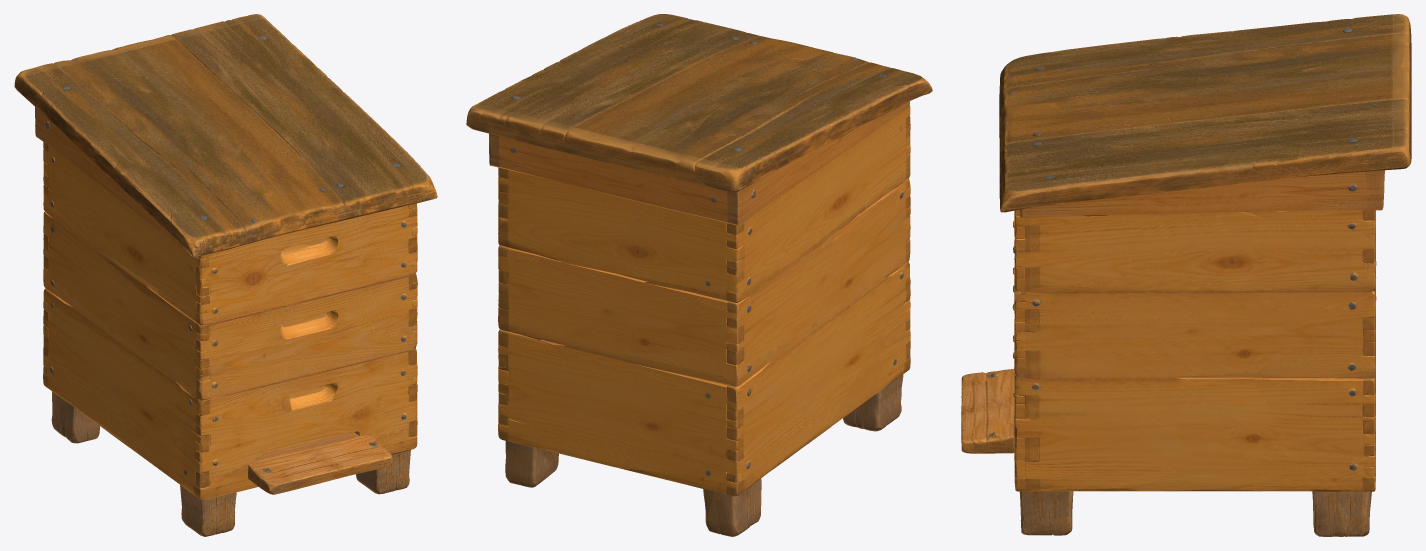
File: beehive.glb
The picture shows the model from 3 angles, left to right: view 1: azimuth 30°, elevation 25°; view 2: azimuth 150°, elevation 25°; view 3: azimuth 270°, elevation 25°; orthographic projection. The views are drawn at different scales.
Visible parts, largest first — view 1: Mesh_0; view 2: Mesh_0; view 3: Mesh_0.
Boxes of the visible parts, bbox=[...] form: Mesh_0: bbox=[14, 14, 437, 536]; Mesh_0: bbox=[466, 14, 932, 536]; Mesh_0: bbox=[961, 14, 1411, 536].
Size of the model in its own units: 1.39 by 1.86 by 1.9.
1 material, 1 textured.
